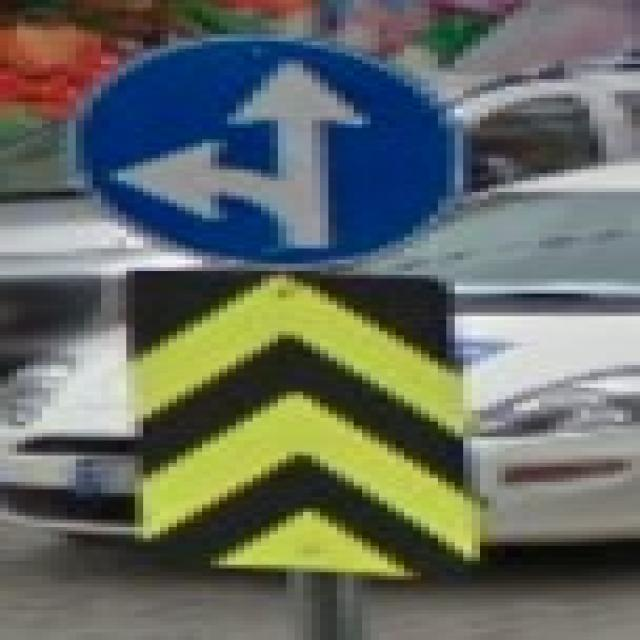Straight or Left: (73, 35, 452, 264)
